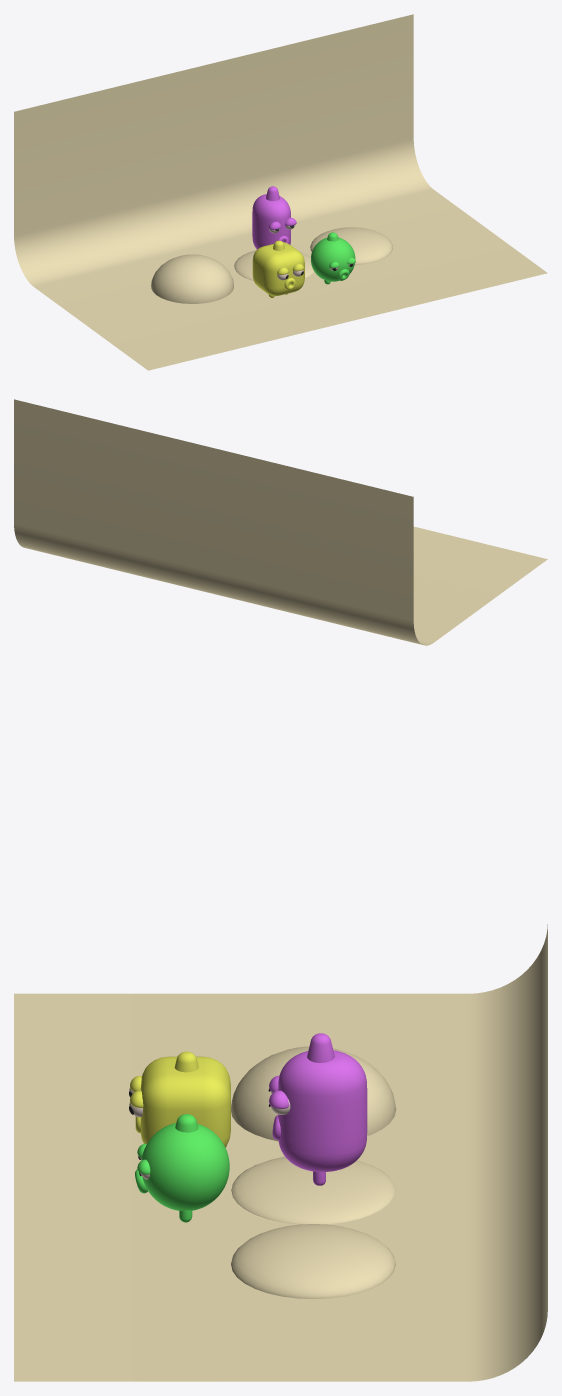
The model's file is KevinBlenderLearn.fbx.
The picture shows the model from 3 angles, top to bottom: view 1: azimuth 30°, elevation 25°; view 2: azimuth 150°, elevation 25°; view 3: azimuth 270°, elevation 25°; orthographic projection. The views are drawn at different scales.
Parts seen in each view (by area): view 1: Plane, Sphere.020, Cube, Sphere.021, Cylinder.004, Sphere.006, Sphere.019; view 2: Plane; view 3: Plane, Sphere.021, Cylinder.004, Sphere.019, Sphere.006, Cube, Sphere.020.
Part boxes in pixels (<box>): Plane: <box>14,14,547,370</box>; Sphere.020: <box>151,254,233,303</box>; Cube: <box>252,242,304,296</box>; Sphere.021: <box>310,227,392,264</box>; Cylinder.004: <box>252,194,290,249</box>; Sphere.006: <box>311,237,355,281</box>; Sphere.019: <box>234,250,314,280</box>; Plane: <box>14,399,547,645</box>; Plane: <box>14,924,547,1381</box>; Sphere.021: <box>231,1224,395,1299</box>; Cylinder.004: <box>278,1050,367,1171</box>; Sphere.019: <box>231,1156,395,1224</box>; Sphere.006: <box>141,1123,229,1210</box>; Cube: <box>140,1056,230,1147</box>; Sphere.020: <box>231,1046,396,1141</box>.
Size of the model in its own units: 2035 by 920 by 1184.
